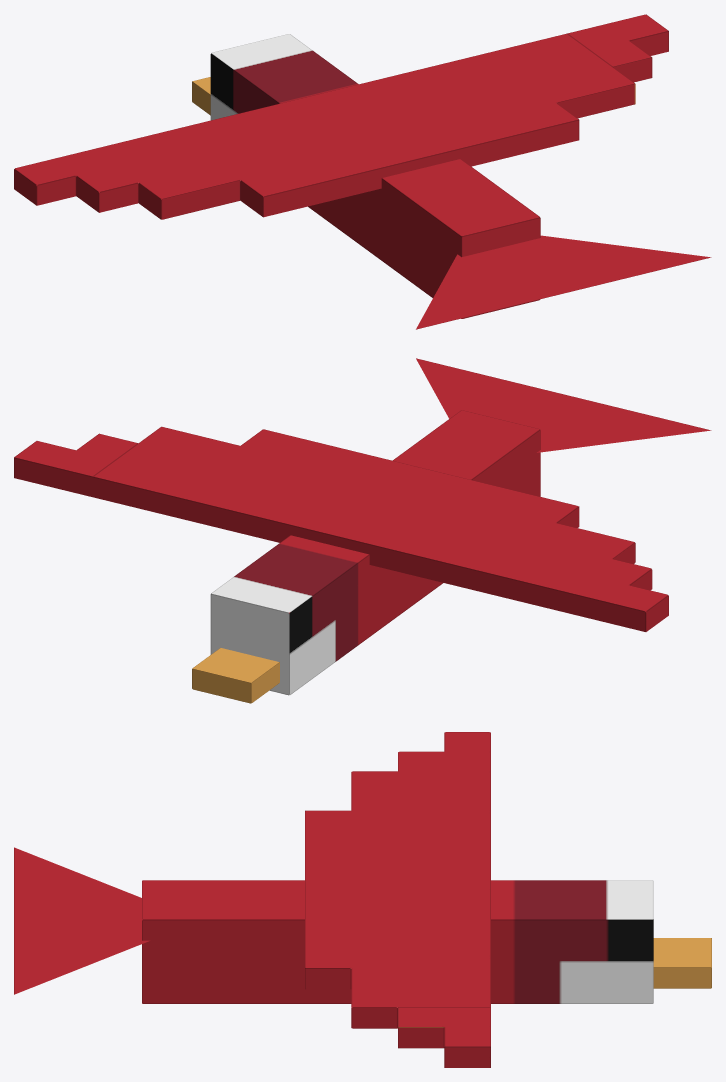
The model's file is Birb2_bin.fbx.
3 views of the same model, one above another, from view 1: azimuth 30°, elevation 25°; view 2: azimuth 150°, elevation 25°; view 3: azimuth 270°, elevation 25° (orthographic). The views are drawn at different scales.
Parts seen in each view (by area): view 1: cuboid_1, cuboid, pyramid, cuboid_2; view 2: cuboid_1, cuboid, pyramid, cuboid_2; view 3: cuboid_1, cuboid, pyramid, cuboid_2.
Part boxes in pixels (x1,y1,x2,y2): cuboid_1: [14, 14, 668, 219]; cuboid: [210, 34, 540, 318]; pyramid: [416, 235, 711, 329]; cuboid_2: [192, 77, 210, 115]; cuboid_1: [14, 426, 668, 631]; cuboid: [210, 410, 540, 695]; pyramid: [416, 358, 711, 452]; cuboid_2: [192, 647, 279, 703]; cuboid_1: [305, 732, 490, 1067]; cuboid: [142, 880, 653, 1003]; pyramid: [14, 847, 149, 994]; cuboid_2: [653, 938, 711, 988].
Bounding box in the file's own units: 100 × 14.06 × 93.75.
1 material, 1 textured.
